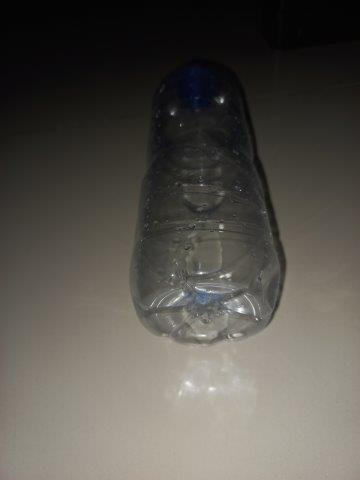botolplastik: (131, 53, 284, 344)
